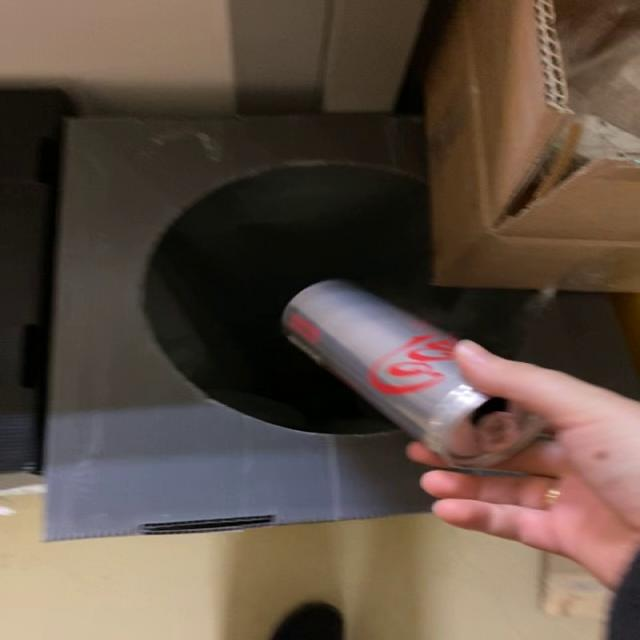metal: (281, 280, 544, 470)
